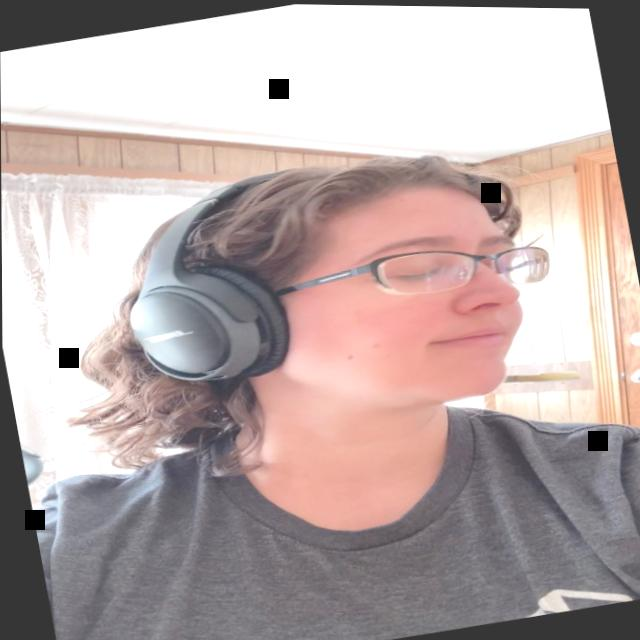NO-Mask: (262, 171, 538, 429)
